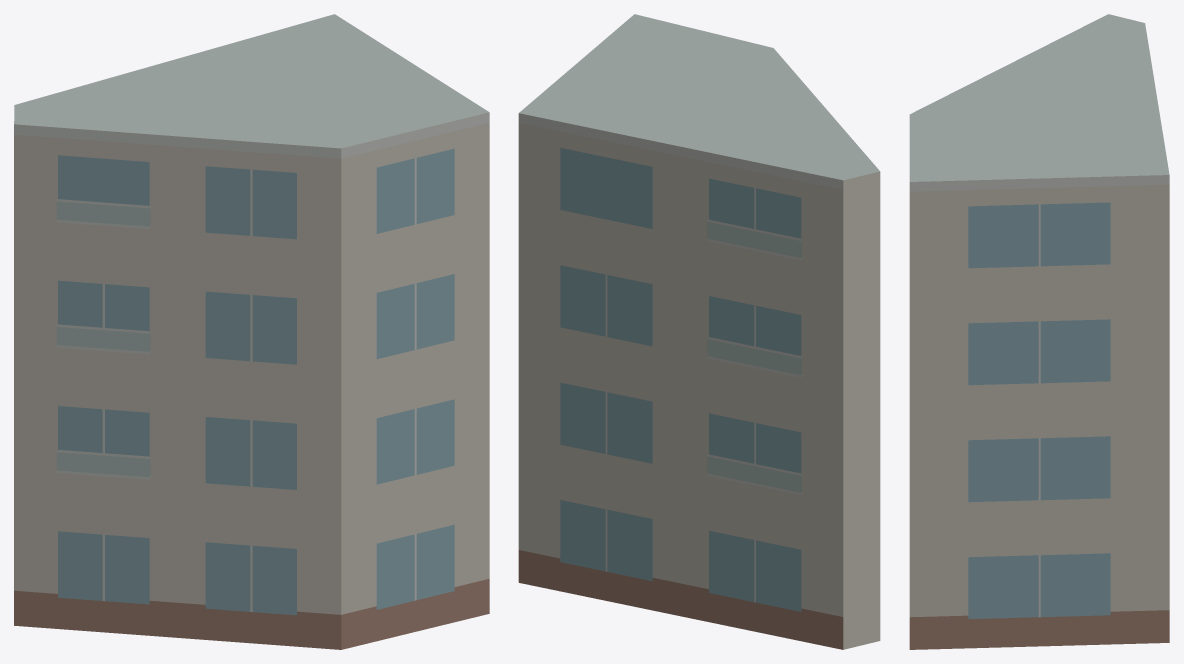
The model's file is survey-upis-32487662.glb.
3 views of the same model, side by side, from view 1: azimuth 30°, elevation 25°; view 2: azimuth 150°, elevation 25°; view 3: azimuth 270°, elevation 25° (orthographic). The views are drawn at different scales.
Visible parts, largest first — view 1: survey-upis-32487662.tmp; view 2: survey-upis-32487662.tmp; view 3: survey-upis-32487662.tmp.
Part boxes in pixels (left/top/right/bottom): survey-upis-32487662.tmp: left=14, top=14, right=489, bottom=649; survey-upis-32487662.tmp: left=518, top=14, right=880, bottom=649; survey-upis-32487662.tmp: left=909, top=14, right=1169, bottom=649.
Size of the model in its own units: 9.17 by 11.9 by 6.01.
